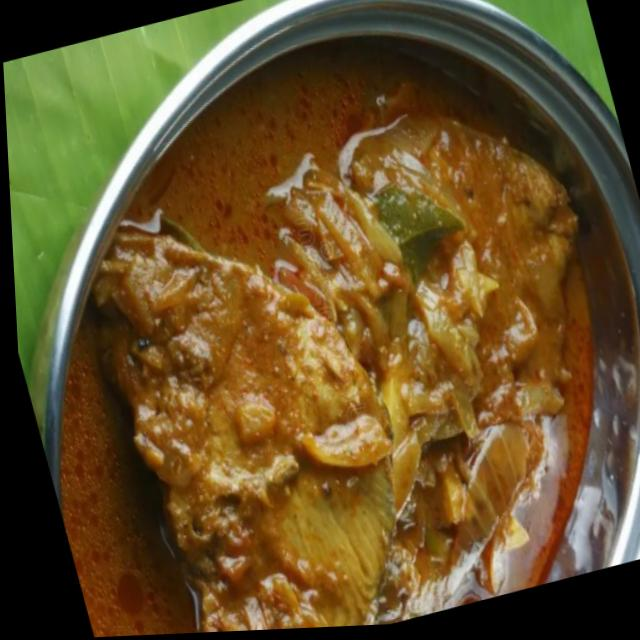FISH CURRY: (60, 37, 597, 637)
